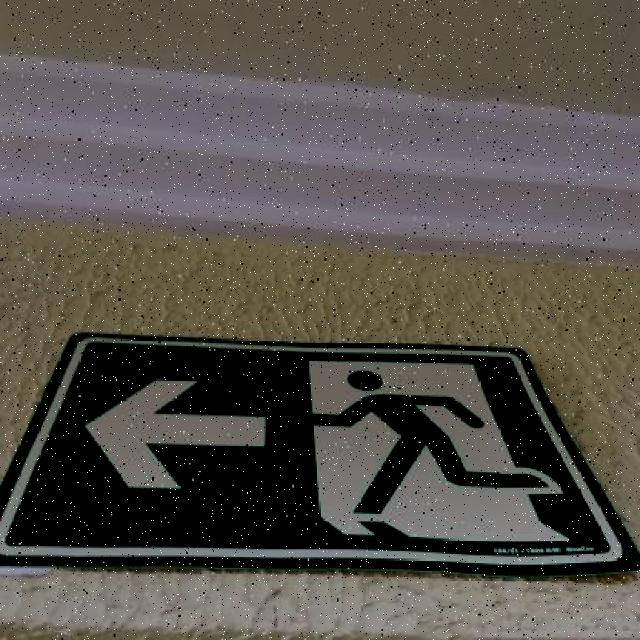emergency_exit: (1, 331, 639, 575)
